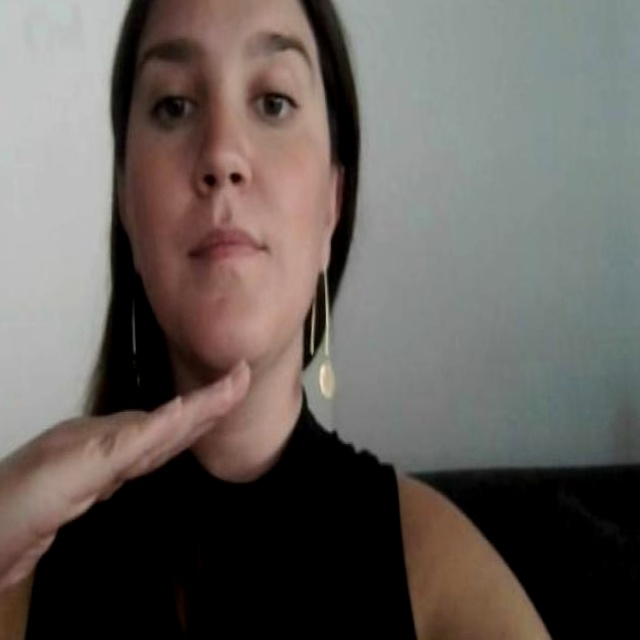Paper: (0, 363, 271, 628)
